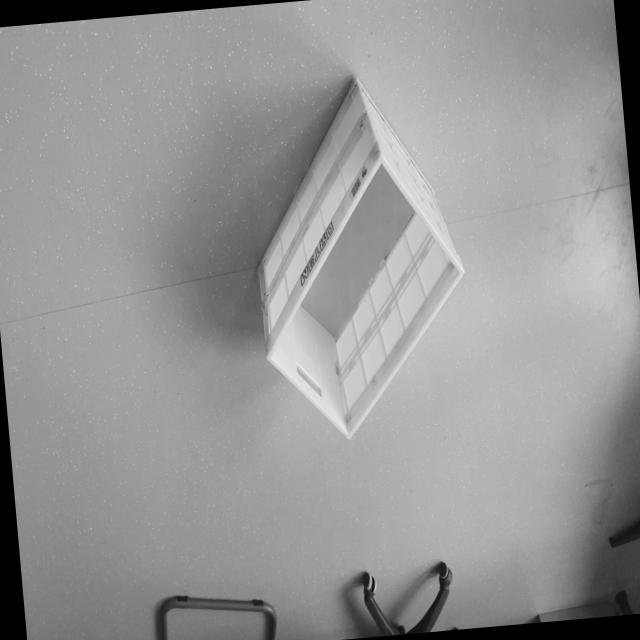box: (228, 52, 486, 466)
